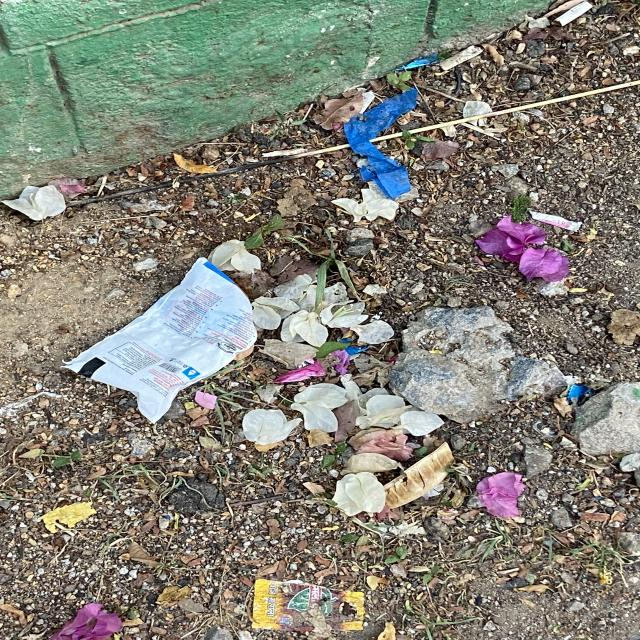giay_goi: (252, 581, 364, 633)
goi_nhua_nho: (63, 257, 256, 422)
nhua: (344, 88, 418, 198)
